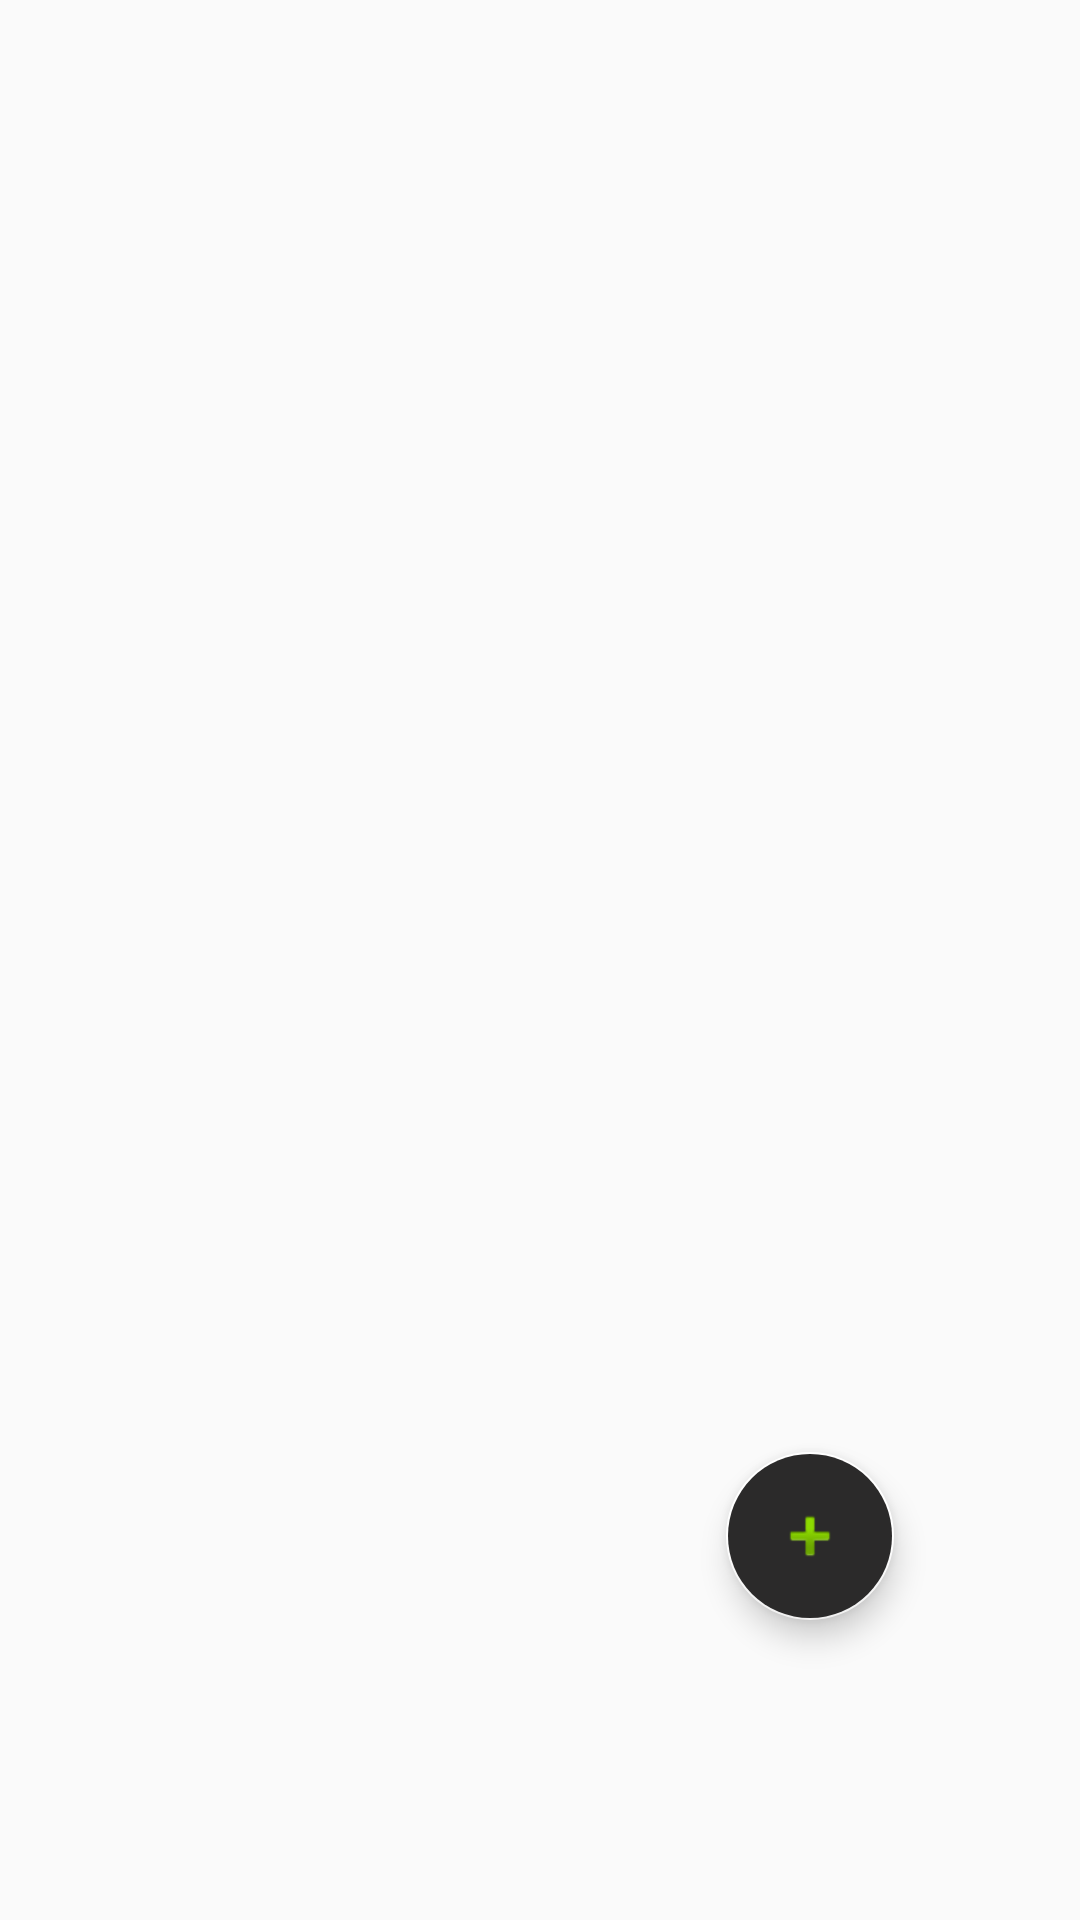

Named icons in this screenshot (1080x1920) and their bounding boxes, (x1, y1, x2, y2):
Agregar Paciente: (728, 1454, 892, 1618)
